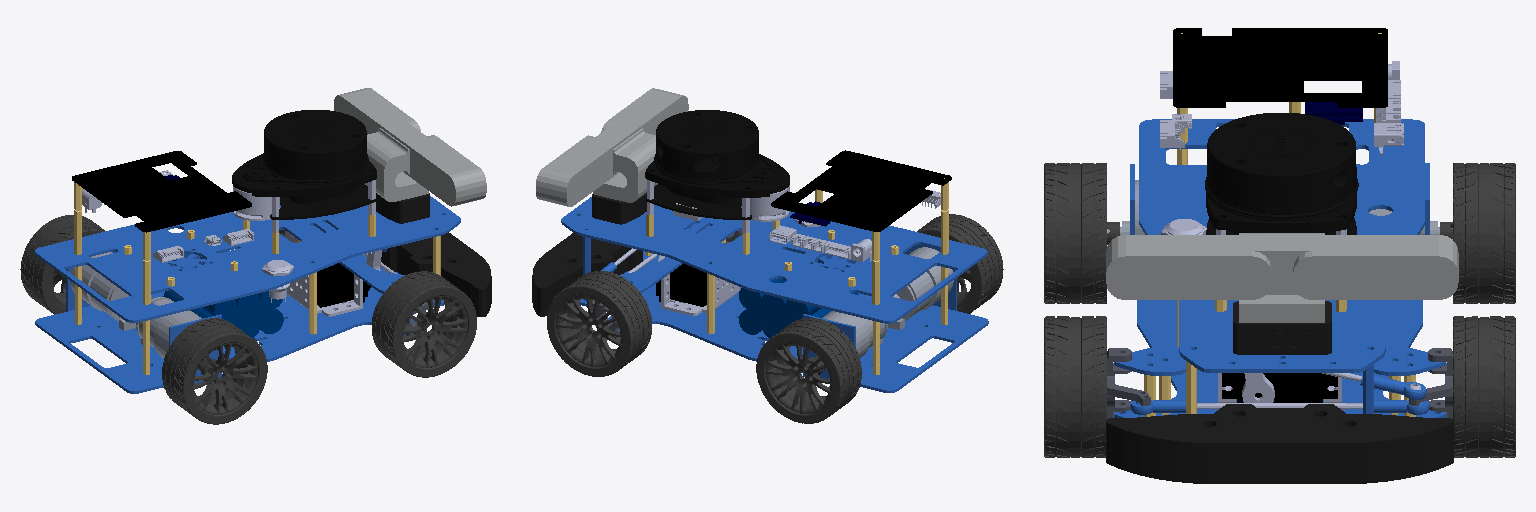
--- What the picture shows (computed from the rendered views, not written in the file) ---
The picture shows the robot from 3 angles, left to right: view 1: azimuth 30°, elevation 25°; view 2: azimuth 150°, elevation 25°; view 3: azimuth 270°, elevation 25°; orthographic projection.
Model eprobot_description with 19 links and 18 joints (2 revolute, 4 continuous, 12 fixed), rooted at base_link, posed every joint at zero.
Visible links, largest first — view 1: base_link, base_laser_Link, base_rgbd_Link, right_rear_Link, right_front_Link, base_cover_Link, base_silver_Link, base_sponge_Link, base_copper_Link, left_rear_Link, base_motor_Link, base_battery_Link (+2 smaller); view 2: base_link, base_laser_Link, base_rgbd_Link, left_rear_Link, left_front_Link, base_cover_Link, base_silver_Link, base_sponge_Link, right_rear_Link, base_copper_Link, base_motor_Link, base_battery_Link (+2 smaller); view 3: base_link, base_rgbd_Link, base_sponge_Link, base_laser_Link, base_cover_Link, right_rear_Link, right_front_Link, left_front_Link, left_rear_Link, base_silver_Link, base_logo_Link, base_servo_Link (+5 smaller).
Link boxes in pixels (<box>): base_link: <box>35,196,460,393</box>; base_laser_Link: <box>232,110,376,219</box>; base_rgbd_Link: <box>334,88,486,206</box>; right_rear_Link: <box>162,318,267,424</box>; right_front_Link: <box>372,271,476,377</box>; base_cover_Link: <box>72,151,251,232</box>; base_silver_Link: <box>82,170,396,316</box>; base_sponge_Link: <box>381,232,491,316</box>; base_copper_Link: <box>74,182,440,374</box>; left_rear_Link: <box>20,215,104,314</box>; base_motor_Link: <box>70,252,201,357</box>; base_battery_Link: <box>163,251,283,337</box>; base_link: <box>561,197,988,392</box>; base_laser_Link: <box>645,110,789,219</box>; base_rgbd_Link: <box>536,88,688,206</box>; left_rear_Link: <box>756,318,861,423</box>; left_front_Link: <box>547,271,651,376</box>; base_cover_Link: <box>771,150,951,231</box>; base_silver_Link: <box>614,180,940,315</box>; base_sponge_Link: <box>532,233,642,316</box>; right_rear_Link: <box>917,214,1003,313</box>; base_copper_Link: <box>645,178,948,374</box>; base_motor_Link: <box>823,247,953,357</box>; base_battery_Link: <box>739,251,858,338</box>; base_link: <box>1114,119,1445,417</box>; base_rgbd_Link: <box>1106,233,1458,322</box>; base_sponge_Link: <box>1106,404,1453,483</box>; base_laser_Link: <box>1205,113,1358,234</box>; base_cover_Link: <box>1173,28,1387,107</box>; right_rear_Link: <box>1044,163,1119,303</box>; right_front_Link: <box>1044,316,1106,457</box>; left_front_Link: <box>1453,316,1515,457</box>; left_rear_Link: <box>1440,163,1515,303</box>; base_silver_Link: <box>1160,61,1420,409</box>; base_logo_Link: <box>1233,301,1331,354</box>; base_servo_Link: <box>1222,373,1337,402</box>.
Bounding box of the posed robot: 0.2902 × 0.2192 × 0.1447 m (x, y, z).
Meshes: 19 distinct files referenced, 18 mesh visuals loaded (18 binary STL); not drawn: 1 (reference not matched to a file when rendering).

URDF robot description (eprobot_description):
<?xml version="1.0" encoding="utf-8"?>
<!-- This URDF was automatically created by SolidWorks to URDF Exporter! Originally created by Stephen Brawner ([email redacted]) 
     Commit Version: 1.6.0-1-g15f4949  Build Version: 1.6.7594.29634
     For more information, please see http://wiki.ros.org/sw_urdf_exporter -->
<robot
  name="eprobot_description">
  <link
    name="base_link">
    <!-- <inertial> -->
      <!-- <origin -->
        <!-- xyz="-0.0022669 0.000732 0.044234" -->
        <!-- rpy="0 0 0" /> -->
      <!-- <mass -->
        <!-- value="0.14259" /> -->
      <!-- <inertia -->
        <!-- ixx="0.0001682" -->
        <!-- ixy="2.6267E-06" -->
        <!-- ixz="1.9562E-09" -->
        <!-- iyy="0.00069626" -->
        <!-- iyz="1.6676E-08" -->
        <!-- izz="0.00085931" /> -->
    <!-- </inertial>  -->
    <visual>
      <origin
        xyz="0 0 0"
        rpy="0 0 0" />
      <geometry>
        <mesh
          filename="package://eprobot_description/meshes/base_link.STL" />
      </geometry>
      <material
        name="">
        <color
          rgba="0.227451 0.45098 0.7882353 1" />
      </material>
    </visual>
    <collision>
      <origin
        xyz="0 0 0"
        rpy="0 0 0" />
      <geometry>
        <mesh
          filename="package://eprobot_description/meshes/base_link.STL" />
      </geometry>
    </collision>
  </link>
  <link
    name="left_steer_Link">
    <!-- <inertial> -->
      <!-- <origin -->
        <!-- xyz="0.00289223464061653 0.00436469329440564 0.0190666352978092" -->
        <!-- rpy="0 0 0" /> -->
      <!-- <mass -->
        <!-- value="0.00304874185579663" /> -->
      <!-- <inertia -->
        <!-- ixx="3.60627116729123E-07" -->
        <!-- ixy="5.80026964761733E-08" -->
        <!-- ixz="-3.92300483548765E-08" -->
        <!-- iyy="4.64088231058092E-07" -->
        <!-- iyz="1.2879058968619E-08" -->
        <!-- izz="2.50806163115879E-07" /> -->
    <!-- </inertial> -->
    <visual>
      <origin
        xyz="0 0 0"
        rpy="0 0 0" />
      <geometry>
        <mesh
          filename="package://eprobot_description/meshes/left_steer_Link.STL" />
      </geometry>
      <material
        name="">
        <color
          rgba="0.37255 0.3843137 0.43137 1" />
      </material>
    </visual>
    <collision>
      <origin
        xyz="0 0 0"
        rpy="0 0 0" />
      <geometry>
        <mesh
          filename="package://eprobot_description/meshes/left_steer_Link.STL" />
      </geometry>
    </collision>
  </link>
  <joint
    name="left_steer_joint"
    type="revolute">
    <origin
      xyz="0.079302 0.073005 0.015606"
      rpy="0 0 0" />
    <parent
      link="base_link" />
    <child
      link="left_steer_Link" />
    <axis
      xyz="0 0 1" />
    <limit
      lower="-0.7854"
      upper="0.7854"
      effort="0"
      velocity="0" />
  </joint>
  <link
    name="left_front_Link">
    <!-- <inertial> -->
      <!-- <origin -->
        <!-- xyz="3.33822566717101E-06 1.1250633156221E-06 0.0159792900375405" -->
        <!-- rpy="0 0 0" /> -->
      <!-- <mass -->
        <!-- value="0.0598169300747009" /> -->
      <!-- <inertia -->
        <!-- ixx="2.49612767048955E-05" -->
        <!-- ixy="1.4331222218256E-09" -->
        <!-- ixz="-6.66115793292593E-10" -->
        <!-- iyy="2.49575072162332E-05" -->
        <!-- iyz="-2.24486169683609E-10" -->
        <!-- izz="4.22515892756475E-05" /> -->
    <!-- </inertial>  -->
    <visual>
      <origin
        xyz="0 0 0"
        rpy="0 0 0" />
      <geometry>
        <mesh
          filename="package://eprobot_description/meshes/left_front_Link.STL" />
      </geometry>
      <material
        name="">
        <color
          rgba="0.29 0.29 0.29 1" />
      </material>
    </visual>
    <collision>
      <origin
        xyz="0 0 0"
        rpy="0 0 0" />
      <geometry>
        <mesh
          filename="package://eprobot_description/meshes/left_front_Link.STL" />
      </geometry>
    </collision>
  </link>
  <joint
    name="left_front_wheel_joint"
    type="continuous">
    <origin
      xyz="0 0.0071646 0.0182"
      rpy="-1.5708 0 0" />
    <parent
      link="left_steer_Link" />
    <child
      link="left_front_Link" />
    <axis
      xyz="0 0 1" />
  </joint>
  <link
    name="right_steer_Link">
    <!-- <inertial> -->
      <!-- <origin -->
        <!-- xyz="0.00289223464061651 -0.00436469329440559 0.0190666352978092" -->
        <!-- rpy="0 0 0" /> -->
      <!-- <mass -->
        <!-- value="0.00304874185579663" /> -->
     <!-- <inertia -->
        <!-- ixx="3.60627116729123E-07" -->
        <!-- ixy="-5.80026964761737E-08" -->
        <!-- ixz="-3.92300483548766E-08" -->
        <!-- iyy="4.64088231058092E-07" -->
        <!-- iyz="-1.2879058968619E-08" -->
        <!-- izz="2.5080616311588E-07" /> -->
    <!-- </inertial>  -->
    <visual>
      <origin
        xyz="0 0 0"
        rpy="0 0 0" />
      <geometry>
        <mesh
          filename="package://eprobot_description/meshes/right_steer_Link.STL" />
      </geometry>
      <material
        name="">
        <color
          rgba="0.37255 0.3843137 0.43137 1" />
      </material>
    </visual>
    <collision>
      <origin
        xyz="0 0 0"
        rpy="0 0 0" />
      <geometry>
        <mesh
          filename="package://eprobot_description/meshes/right_steer_Link.STL" />
      </geometry>
    </collision>
  </link>
  <joint
    name="right_steer_joint"
    type="revolute">
    <origin
      xyz="0.079302 -0.073865 0.015606"
      rpy="0 0 0" />
    <parent
      link="base_link" />
    <child
      link="right_steer_Link" />
    <axis
      xyz="0 0 1" />
    <limit
      lower="-0.7854"
      upper="0.7854"
      effort="0"
      velocity="0" />
  </joint>
  <link
    name="right_front_Link">
    <!-- <inertial> -->
      <!-- <origin -->
        <!-- xyz="-3.3388428127834E-06 1.12323049365932E-06 -0.0159792900375428" -->
        <!-- rpy="0 0 0" /> -->
      <!-- <mass -->
        <!-- value="0.0598169300747018" /> -->
     <!-- <inertia -->
        <!-- ixx="2.49612782772991E-05" -->
        <!-- ixy="-1.43105194717028E-09" -->
        <!-- ixz="-6.66238933447561E-10" -->
        <!-- iyy="2.49575056438309E-05" -->
        <!-- iyz="2.24120445106832E-10" -->
        <!-- izz="4.2251589275648E-05" /> -->
    <!-- </inertial>  -->
    <visual>
      <origin
        xyz="0 0 0"
        rpy="0 0 0" />
      <geometry>
        <mesh
          filename="package://eprobot_description/meshes/right_front_Link.STL" />
      </geometry>
      <material
        name="">
        <color
          rgba="0.29 0.29 0.29 1" />
      </material>
    </visual>
    <collision>
      <origin
        xyz="0 0 0"
        rpy="0 0 0" />
      <geometry>
        <mesh
          filename="package://eprobot_description/meshes/right_front_Link.STL" />
      </geometry>
    </collision>
  </link>
  <joint
    name="right_front_wheel_joint"
    type="continuous">
    <origin
      xyz="0 -0.0071646 0.0182"
      rpy="-1.5708 0 0" />
    <parent
      link="right_steer_Link" />
    <child
      link="right_front_Link" />
    <axis
      xyz="0 0 -1" />
  </joint>
  <link
    name="right_rear_Link">
    <!-- <inertial> -->
      <!-- <origin -->
        <!-- xyz="2.73419737639724E-06 -7.04739553181524E-07 -0.0156586131289114" -->
        <!-- rpy="0 0 0" /> -->
      <!-- <mass -->
        <!-- value="0.0614284738930155" /> -->
     <!-- <inertia -->
        <!-- ixx="2.5022438294889E-05" -->
        <!-- ixy="-1.81914230476106E-09" -->
        <!-- ixz="7.07590865813921E-10" -->
        <!-- iyy="2.50186122013257E-05" -->
        <!-- iyz="-2.68604018396925E-10" -->
        <!-- izz="4.22825889650087E-05" /> -->
    <!-- </inertial>  -->
    <visual>
      <origin
        xyz="0 0 0"
        rpy="0 0 0" />
      <geometry>
        <mesh
          filename="package://eprobot_description/meshes/right_rear_Link.STL" />
      </geometry>
      <material
        name="">
        <color
          rgba="0.29 0.29 0.29 1" />
      </material>
    </visual>
    <collision>
      <origin
        xyz="0 0 0"
        rpy="0 0 0" />
      <geometry>
        <mesh
          filename="package://eprobot_description/meshes/right_rear_Link.STL" />
      </geometry>
    </collision>
  </link>
  <joint
    name="right_rear_wheel_joint"
    type="continuous">
    <origin
      xyz="-0.083391 -0.08103 0.036923"
      rpy="-1.5708 0 0" />
    <parent
      link="base_link" />
    <child
      link="right_rear_Link" />
    <axis
      xyz="0 0 -1" />
  </joint>
  <link
    name="left_rear_Link">
    <!-- <inertial> -->
      <!-- <origin -->
        <!-- xyz="-2.96566374549667E-06 -1.6504439990777E-06 0.0156586131289113" -->
        <!-- rpy="0 0 0" /> -->
      <!-- <mass -->
        <!-- value="0.0614284738930153" /> -->
     <!-- <inertia -->
        <!-- ixx="2.50222307349982E-05" -->
        <!-- ixy="1.11067581703436E-09" -->
        <!-- ixz="6.94274856753452E-10" -->
        <!-- iyy="2.50188197612165E-05" -->
        <!-- iyz="1.66053209072512E-10" -->
        <!-- izz="4.22825889650088E-05" /> -->
    <!-- </inertial>  -->
    <visual>
      <origin
        xyz="0 0 0"
        rpy="0 0 0" />
      <geometry>
        <mesh
          filename="package://eprobot_description/meshes/left_rear_Link.STL" />
      </geometry>
      <material
        name="">
        <color
          rgba="0.29 0.29 0.29 1" />
      </material>
    </visual>
    <collision>
      <origin
        xyz="0 0 0"
        rpy="0 0 0" />
      <geometry>
        <mesh
          filename="package://eprobot_description/meshes/left_rear_Link.STL" />
      </geometry>
    </collision>
  </link>
  <joint
    name="left_rear_wheel_joint"
    type="continuous">
    <origin
      xyz="-0.083391 0.08017 0.036923"
      rpy="-1.5708 0 0" />
    <parent
      link="base_link" />
    <child
      link="left_rear_Link" />
    <axis
      xyz="0 0 1" />
  </joint>
  <link
    name="base_servo_Link">
    <!-- <inertial> -->
      <!-- <origin -->
        <!-- xyz="0.0619025454392778 -0.00066454955366041 0.0344057778807545" -->
        <!-- rpy="0 0 0" /> -->
      <!-- <mass -->
        <!-- value="0.0323679922654682" /> -->
     <!-- <inertia -->
        <!-- ixx="5.53746399876403E-06" -->
        <!-- ixy="1.52126098150984E-07" -->
        <!-- ixz="-5.0779921524441E-20" -->
        <!-- iyy="5.35175217589866E-06" -->
        <!-- iyz="3.29470896731958E-20" -->
        <!-- izz="8.76953164037103E-06" /> -->
    <!-- </inertial>  -->
    <visual>
      <origin
        xyz="0 0 0"
        rpy="0 0 0" />
      <geometry>
        <mesh
          filename="package://eprobot_description/meshes/base_servo_Link.STL" />
      </geometry>
      <material
        name="">
        <color
          rgba="0.0 0.0 0.0 1" />
      </material>
    </visual>
    <collision>
      <origin
        xyz="0 0 0"
        rpy="0 0 0" />
      <geometry>
        <mesh
          filename="package://eprobot_description/meshes/base_servo_Link.STL" />
      </geometry>
    </collision>
  </link>
  <joint
    name="servo_joint"
    type="fixed">
    <origin
      xyz="0 0 0"
      rpy="0 0 0" />
    <parent
      link="base_link" />
    <child
      link="base_servo_Link" />
    <axis
      xyz="0 0 0" />
  </joint>
  <link
    name="base_motor_Link">
    <!-- <inertial> -->
      <!-- <origin -->
        <!-- xyz="-0.0833914294785033 -0.000430033389498874 0.0436679450567612" -->
        <!-- rpy="0 0 0" /> -->
      <!-- <mass -->
        <!-- value="0.0954495656077414" /> -->
     <!-- <inertia -->
        <!-- ixx="2.84560159178935E-05" -->
        <!-- ixy="-3.85986902789604E-20" -->
        <!-- ixz="2.14770954216475E-21" -->
        <!-- iyy="1.44365955223347E-05" -->
        <!-- iyz="1.34334131478612E-21" -->
        <!-- izz="2.82361505215849E-05" /> -->
    <!-- </inertial>  -->
    <visual>
      <origin
        xyz="0 0 0"
        rpy="0 0 0" />
      <geometry>
        <mesh
          filename="package://eprobot_description/meshes/base_motor_Link.STL" />
      </geometry>
      <material
        name="">
        <color
          rgba="0.6196 0.64313 0.698 1" />
      </material>
    </visual>
    <collision>
      <origin
        xyz="0 0 0"
        rpy="0 0 0" />
      <geometry>
        <mesh
          filename="package://eprobot_description/meshes/base_motor_Link.STL" />
      </geometry>
    </collision>
  </link>
  <joint
    name="motor_joint"
    type="fixed">
    <origin
      xyz="0 0 0"
      rpy="0 0 0" />
    <parent
      link="base_link" />
    <child
      link="base_motor_Link" />
    <axis
      xyz="0 0 0" />
  </joint>
  <link
    name="base_battery_Link">
    <!-- <inertial> -->
      <!-- <origin -->
        <!-- xyz="-0.0211976776736241 0.000532798146782643 0.0389057778807545" -->
        <!-- rpy="0 0 0" /> -->
      <!-- <mass -->
        <!-- value="0.114945445363653" /> -->
     <!-- <inertia -->
        <!-- ixx="5.63374137910994E-05" -->
        <!-- ixy="3.4557776444687E-20" -->
        <!-- ixz="-2.09380092552485E-21" -->
        <!-- iyy="3.64651068350516E-05" -->
        <!-- iyz="-1.55159510173094E-20" -->
        <!-- izz="7.13369039400112E-05" /> -->
    <!-- </inertial>  -->
    <visual>
      <origin
        xyz="0 0 0"
        rpy="0 0 0" />
      <geometry>
        <mesh
          filename="package://eprobot_description/meshes/base_battery_Link.STL" />
      </geometry>
      <material
        name="">
        <color
          rgba="0.0 0.27843 0.55294 1" />
      </material>
    </visual>
    <collision>
      <origin
        xyz="0 0 0"
        rpy="0 0 0" />
      <geometry>
        <mesh
          filename="package://eprobot_description/meshes/base_battery_Link.STL" />
      </geometry>
    </collision>
  </link>
  <joint
    name="battery_joint"
    type="fixed">
    <origin
      xyz="0 0 0"
      rpy="0 0 0" />
    <parent
      link="base_link" />
    <child
      link="base_battery_Link" />
    <axis
      xyz="0 1 0" />
    <limit
      lower="0"
      upper="0"
      effort="0"
      velocity="0" />
  </joint>
  <link
    name="base_sponge_Link">
    <!-- <inertial> -->
      <!-- <origin -->
        <!-- xyz="0.139429875262666 -0.000445290187781333 0.0314057778807544" -->
        <!-- rpy="0 0 0" /> -->
      <!-- <mass -->
        <!-- value="0.098440113074383" /> -->
      <!-- <inertia -->
        <!-- ixx="0.000152031833579528" -->
        <!-- ixy="1.85509014944861E-08" -->
        <!-- ixz="-3.35649333948662E-21" -->
        <!-- iyy="1.40137859329382E-05" -->
        <!-- iyz="2.88458022375564E-20" -->
        <!-- izz="0.000158810271201499" /> -->
    <!-- </inertial>  -->
    <visual>
      <origin
        xyz="0 0 0"
        rpy="0 0 0" />
      <geometry>
        <mesh
          filename="package://eprobot_description/meshes/base_sponge_Link.STL" />
      </geometry>
      <material
        name="">
        <color
          rgba="0.1451 0.1451 0.1451 1" />
      </material>
    </visual>
    <collision>
      <origin
        xyz="0 0 0"
        rpy="0 0 0" />
      <geometry>
        <mesh
          filename="package://eprobot_description/meshes/base_sponge_Link.STL" />
      </geometry>
    </collision>
  </link>
  <joint
    name="sponge_joint"
    type="fixed">
    <origin
      xyz="0 0 0"
      rpy="0 0 0" />
    <parent
      link="base_link" />
    <child
      link="base_sponge_Link" />
    <axis
      xyz="0 0 0" />
  </joint>
  <link
    name="base_logo_Link">
    <!-- <inertial> -->
      <!-- <origin -->
        <!-- xyz="0.115571209263384 0.000752780073843051 0.0809160588520901" -->
        <!-- rpy="0 0 0" /> -->
      <!-- <mass -->
        <!-- value="0.0118516939683588" /> -->
      <!-- <inertia -->
        <!-- ixx="2.80468651079604E-06" -->
        <!-- ixy="1.0567466181185E-08" -->
        <!-- ixz="1.88228706436508E-08" -->
        <!-- iyy="1.11392031627923E-06" -->
        <!-- iyz="1.57139896398864E-10" -->
        <!-- izz="3.40469209513641E-06" /> -->
    <!-- </inertial>  -->
    <visual>
      <origin
        xyz="0 0 0"
        rpy="0 0 0" />
      <geometry>
        <mesh
          filename="package://eprobot_description/meshes/base_logo_Link.STL" />
      </geometry>
      <material
        name="">
        <color
          rgba="0.1451 0.1451 0.1451 1" />
      </material>
    </visual>
    <collision>
      <origin
        xyz="0 0 0"
        rpy="0 0 0" />
      <geometry>
        <mesh
          filename="package://eprobot_description/meshes/base_logo_Link.STL" />
      </geometry>
    </collision>
  </link>
  <joint
    name="logo_joint"
    type="fixed">
    <origin
      xyz="0 0 0"
      rpy="0 0 0" />
    <parent
      link="base_link" />
    <child
      link="base_logo_Link" />
    <axis
      xyz="0 0 0" />
  </joint>
  <link
    name="base_rgbd_Link">
    <!-- <inertial> -->
      <!-- <origin -->
        <!-- xyz="0.118977536029625 0.000674739847919659 0.11222002376395" -->
        <!-- rpy="0 0 0" /> -->
      <!-- <mass -->
        <!-- value="0.115699631867042" /> -->
      <!-- <inertia -->
        <!-- ixx="0.000204265659505075" -->
        <!-- ixy="6.88430069011116E-20" -->
        <!-- ixz="-4.83328439671427E-06" -->
        <!-- iyy="2.61637817208186E-05" -->
        <!-- iyz="-2.40715182669504E-20" -->
        <!-- izz="0.000205264746993196" /> -->
    <!-- </inertial> -->
    <visual>
      <origin
        xyz="0 0 0"
        rpy="0 0 0" />
      <geometry>
        <mesh
          filename="package://eprobot_description/meshes/base_rgbd_Link.STL" />
      </geometry>
      <material
        name="">
        <color
          rgba="0.662745 0.67843 0.68627451 1" />
      </material>
    </visual>
    <collision>
      <origin
        xyz="0 0 0"
        rpy="0 0 0" />
      <geometry>
        <mesh
          filename="package://eprobot_description/meshes/base_rgbd_Link.STL" />
      </geometry>
    </collision>
  </link>
  <joint
    name="rgbd_joint"
    type="fixed">
    <origin
      xyz="0 0 0"
      rpy="0 0 0" />
    <parent
      link="base_link" />
    <child
      link="base_rgbd_Link" />
    <axis
      xyz="0 0 0" />
  </joint>
  <link
    name="base_laser_Link">
    <!-- <inertial> -->
      <!-- <origin -->
        <!-- xyz="0.046695816217113 0.0012659061110642 0.119051994714634" -->
        <!-- rpy="0 0 0" /> -->
      <!-- <mass -->
        <!-- value="0.0547011657689784" /> -->
      <!-- <inertia -->
        <!-- ixx="1.8368356264676E-05" -->
        <!-- ixy="6.47861712042421E-09" -->
        <!-- ixz="4.4877282000422E-07" -->
        <!-- iyy="2.23573352338705E-05" -->
        <!-- iyz="-1.91164618789875E-08" -->
        <!-- izz="3.93597982652403E-05" /> -->
    <!-- </inertial>  -->
    <visual>
      <origin
        xyz="0 0 0"
        rpy="0 0 0" />
      <geometry>
        <mesh
          filename="package://eprobot_description/meshes/base_laser_rviz_Link.STL" />
      </geometry>
      <material
        name="">
        <color
          rgba="0.09 0.09 0.09 1" />
      </material>
    </visual>
    <collision>
      <origin
        xyz="0 0 0"
        rpy="0 0 0" />
      <geometry>
        <mesh
          filename="package://eprobot_description/meshes/base_laser_rviz_Link.STL" />
      </geometry>
    </collision>
  </link>
  <joint
    name="laser_joint"
    type="fixed">
    <origin
      xyz="0 0 0"
      rpy="0 0 0" />
    <parent
      link="base_link" />
    <child
      link="base_laser_Link" />
    <axis
      xyz="0 0 1" />
  </joint>
  <link
    name="base_imu_Link">
    <!-- <inertial> -->
      <!-- <origin -->
        <!-- xyz="-0.0548948807650051 -0.0132949039101318 0.0907689823207151" -->
        <!-- rpy="0 0 0" /> -->
      <!-- <mass -->
        <!-- value="0.0305561977168959" /> -->
      <!-- <inertia -->
        <!-- ixx="1.06663693824962E-05" -->
        <!-- ixy="2.81577969635708E-08" -->
        <!-- ixz="-3.02840712977933E-10" -->
        <!-- iyy="5.99449066052526E-06" -->
        <!-- iyz="9.87439154743621E-09" -->
        <!-- izz="1.60104670537981E-05" /> -->
    <!-- </inertial>  -->
    <visual>
      <origin
        xyz="0 0 0"
        rpy="0 0 0" />
      <geometry>
        <mesh
          filename="package://eprobot_description/meshes/base_imu_Link.STL" />
      </geometry>
      <material
        name="">
        <color
          rgba="0.0 0.0 0.0 1" />
      </material>
    </visual>
    <collision>
      <origin
        xyz="0 0 0"
        rpy="0 0 0" />
      <geometry>
        <mesh
          filename="package://eprobot_description/meshes/base_imu_Link.STL" />
      </geometry>
    </collision>
  </link>
  <joint
    name="imu_joint"
    type="fixed">
    <origin
      xyz="0 0 0"
      rpy="0 0 0" />
    <parent
      link="base_link" />
    <child
      link="base_imu_Link" />
    <axis
      xyz="0 0 0" />
  </joint>
  <link
    name="base_oled_Link">
    <!-- <inertial> -->
      <!-- <origin -->
        <!-- xyz="-0.0482510274399125 0.0247323285853632 0.117430607596576" -->
        <!-- rpy="0 0 0" /> -->
      <!-- <mass -->
        <!-- value="0.00144374816483768" /> -->
      <!-- <inertia -->
        <!-- ixx="8.24042131844688E-08" -->
        <!-- ixy="-1.83018076981713E-10" -->
        <!-- ixz="-1.16878862802072E-10" -->
        <!-- iyy="5.92183304155015E-08" -->
        <!-- iyz="-7.6139639540449E-12" -->
        <!-- izz="1.3971296255493E-07" />  -->
    <!-- </inertial>  -->
    <visual>
      <origin
        xyz="0 0 0"
        rpy="0 0 0" />
      <geometry>
        <mesh
          filename="package://eprobot_description/meshes/base_oled_Link.STL" />
      </geometry>
      <material
        name="">
        <color
          rgba="0.0 0.0078 0.2549 1" />
      </material>
    </visual>
    <collision>
      <origin
        xyz="0 0 0"
        rpy="0 0 0" />
      <geometry>
        <mesh
          filename="package://eprobot_description/meshes/base_oled_Link.STL" />
      </geometry>
    </collision>
  </link>
  <joint
    name="oled_joint"
    type="fixed">
    <origin
      xyz="0 0 0"
      rpy="0 0 0" />
    <parent
      link="base_link" />
    <child
      link="base_oled_Link" />
    <axis
      xyz="0 0 0" />
  </joint>
  <link
    name="base_cover_Link">
    <!-- <inertial> -->
      <!-- <origin -->
        <!-- xyz="-0.0713562250777211 -0.00104866793905717 0.128468245993963" -->
        <!-- rpy="0 0 0" /> -->
      <!-- <mass -->
        <!-- value="0.0120523891087706" /> -->
      <!-- <inertia -->
        <!-- ixx="1.04305947660859E-05" -->
        <!-- ixy="5.80709619620314E-07" -->
        <!-- ixz="-1.20074116800715E-09" -->
        <!-- iyy="6.53127978008636E-06" -->
        <!-- iyz="5.36859535071333E-10" -->
        <!-- izz="1.6956754902159E-05" />  -->
    <!-- </inertial>  -->
    <visual>
      <origin
        xyz="0 0 0"
        rpy="0 0 0" />
      <geometry>
        <mesh
          filename="package://eprobot_description/meshes/base_cover_Link.STL" />
      </geometry>
      <material
        name="">
        <color
          rgba="0.0 0.0 0.0 1" />
      </material>
    </visual>
    <collision>
      <origin
        xyz="0 0 0"
        rpy="0 0 0" />
      <geometry>
        <mesh
          filename="package://eprobot_description/meshes/base_cover_Link.STL" />
      </geometry>
    </collision>
  </link>
  <joint
    name="cover_joint"
    type="fixed">
    <origin
      xyz="0 0 0"
      rpy="0 0 0" />
    <parent
      link="base_link" />
    <child
      link="base_cover_Link" />
    <axis
      xyz="0 0 0" />
  </joint>
  <link
    name="base_copper_Link">
    <!-- <inertial> -->
      <!-- <origin -->
        <!-- xyz="0.00641386009874981 7.08046849264843E-05 0.0586150007540841" -->
        <!-- rpy="0 0 0" /> -->
      <!-- <mass -->
        <!-- value="0.00789066626311039" /> -->
      <!-- <inertia -->
        <!-- ixx="9.60105260413952E-07" -->
        <!-- ixy="-2.72990162373776E-23" -->
        <!-- ixz="2.35259732974074E-22" -->
        <!-- iyy="9.60105260413952E-07" -->
        <!-- iyz="8.88384489323015E-23" -->
        <!-- izz="3.27890020374792E-08" />  -->
    <!-- </inertial>  -->
    <visual>
      <origin
        xyz="0 0 0"
        rpy="0 0 0" />
      <geometry>
        <mesh
          filename="package://eprobot_description/meshes/base_copper_Link.STL" />
      </geometry>
      <material
        name="">
        <color
          rgba="0.9451 0.82353 0.498 1" />
      </material>
    </visual>
    <collision>
      <origin
        xyz="0 0 0"
        rpy="0 0 0" />
      <geometry>
        <mesh
          filename="package://eprobot_description/meshes/base_copper_Link.STL" />
      </geometry>
    </collision>
  </link>
  <joint
    name="copper_joint"
    type="fixed">
    <origin
      xyz="0 0 0"
      rpy="0 0 0" />
    <parent
      link="base_link" />
    <child
      link="base_copper_Link" />
    <axis
      xyz="0 0 1" />
  </joint>
  <link
    name="base_silver_Link">
    <!-- <inertial> -->
      <!-- <origin -->
        <!-- xyz="0 0 0" -->
        <!-- rpy="0 0 0" /> -->
      <!-- <mass -->
        <!-- value="0" /> -->
       <!-- <inertia -->
        <!-- ixx="0" -->
        <!-- ixy="0" -->
        <!-- ixz="0" -->
        <!-- iyy="0" -->
        <!-- iyz="0" -->
        <!-- izz="0" />  -->
    <!-- </inertial>  -->
    <visual>
      <origin
        xyz="0 0 0"
        rpy="0 0 0" />
      <geometry>
        <mesh
          filename="package://eprobot_description/meshes/base_silver_Link.STL" />
      </geometry>
      <material
        name="">
        <color
          rgba="0.71764 0.741176 0.839215 1" />
      </material>
    </visual>
    <collision>
      <origin
        xyz="0 0 0"
        rpy="0 0 0" />
      <geometry>
        <mesh
          filename="package://eprobot_description/meshes/base_silver_Link.STL" />
      </geometry>
    </collision>
  </link>
  <joint
    name="silver_joint"
    type="fixed">
    <origin
      xyz="0 0 0"
      rpy="0 0 0" />
    <parent
      link="base_link" />
    <child
      link="base_silver_Link" />
    <axis
      xyz="0 0 1" />
  </joint>
  
  
  
  
  
  
  
  
  
  
  
  
</robot>
